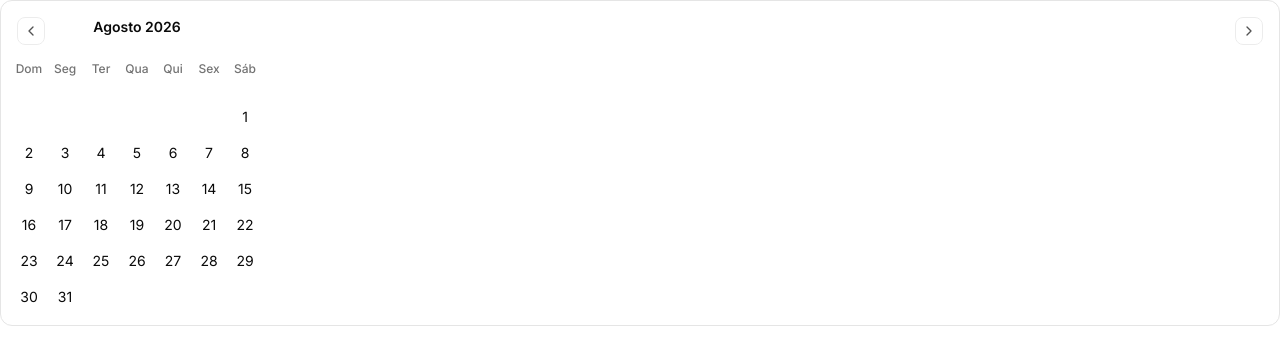
Test: UI Primitives Adversarial Test Suite › Calendar Component › navigates months using previous and next buttons
Expected: the text "Agosto 2026" is shown, [93,18,181,35]
Click the button named "Próximo mês": [1249, 31] box [1235,17,1263,45]
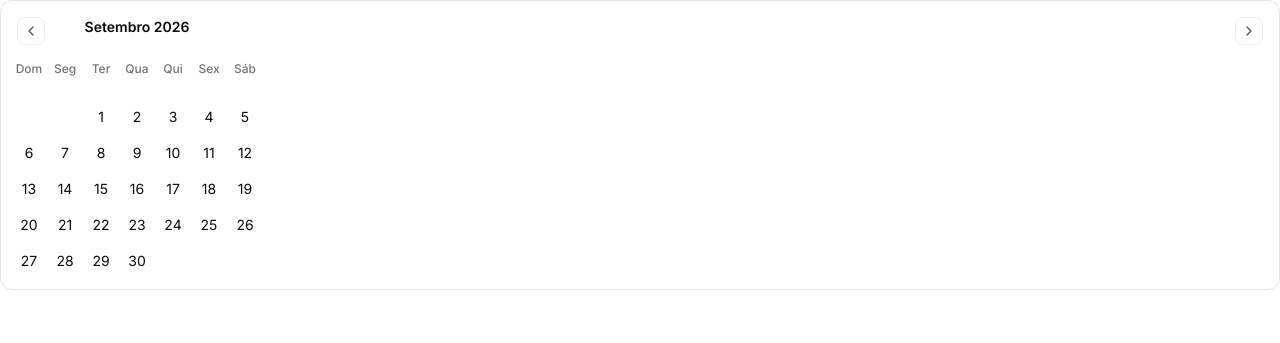
Now the text "Setembro 2026" is shown, box [85,18,189,35]
Click the button named "Mês anterior": [31, 31] box [17,17,45,45]
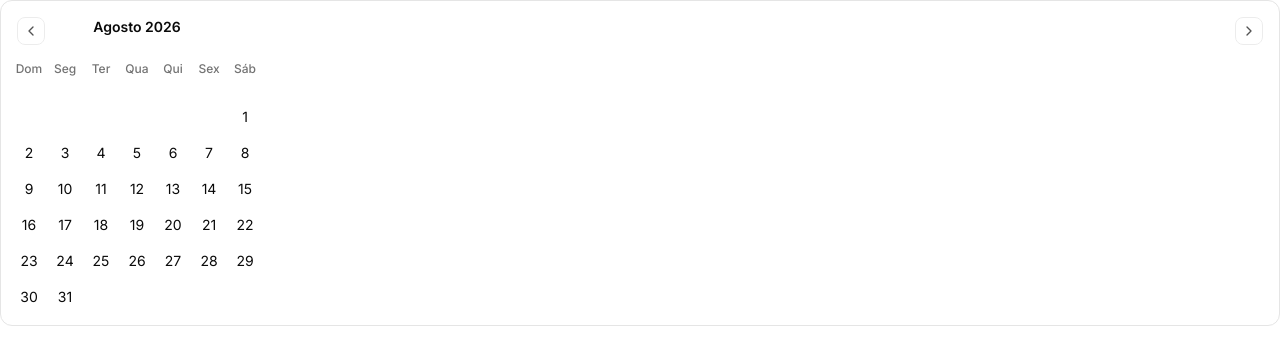
Now the text "Agosto 2026" is shown, box [93,18,181,35]
